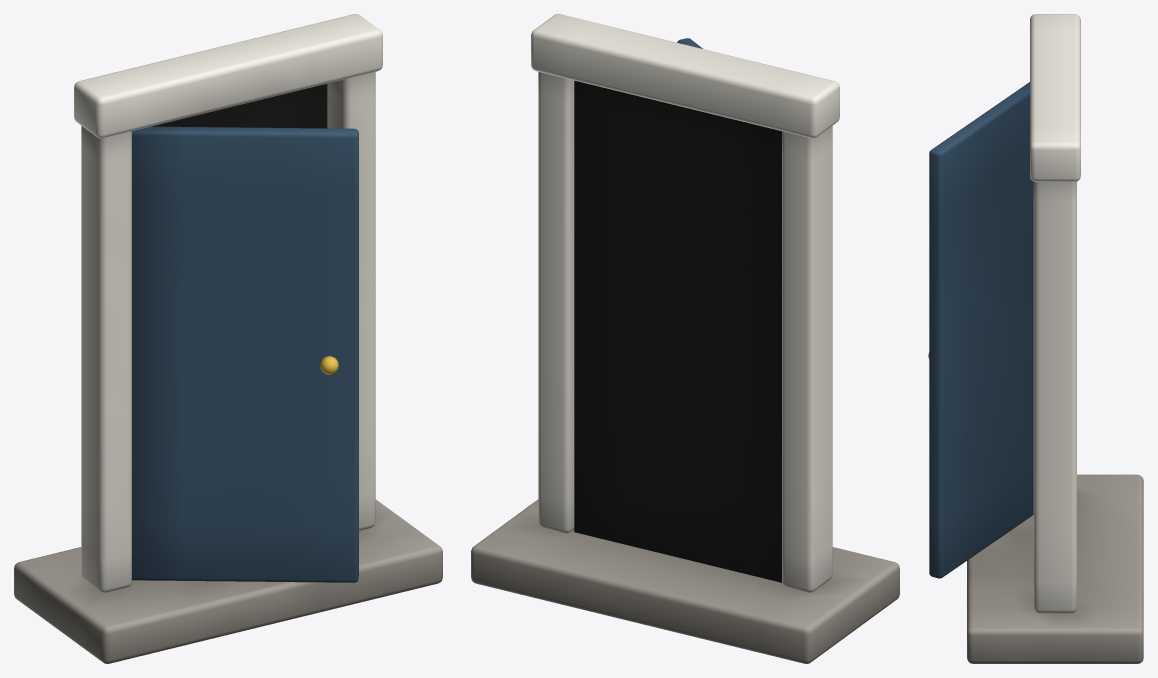
File: doorway.glb
3 views of the same model, side by side, from view 1: azimuth 30°, elevation 25°; view 2: azimuth 150°, elevation 25°; view 3: azimuth 270°, elevation 25° (orthographic). The views are drawn at different scales.
Parts seen in each view (by area): view 1: Panel, step, post, lintel, post.001, dark; view 2: dark, step, post, lintel, post.001; view 3: Panel, step, post.001, lintel.
Part boxes in pixels (x1,y1,x2,y2): Panel: (132, 126, 358, 582); step: (14, 499, 442, 663); post: (81, 126, 131, 592); lintel: (74, 14, 382, 138); post.001: (327, 72, 375, 530); dark: (151, 83, 327, 128); dark: (574, 80, 782, 582); step: (471, 499, 899, 663); post: (782, 126, 832, 592); lintel: (531, 14, 839, 138); post.001: (538, 72, 574, 533); Panel: (929, 82, 1033, 578); step: (967, 474, 1143, 663); post.001: (1033, 181, 1076, 613); lintel: (1030, 14, 1080, 181).
Bounding box in the file's own units: 1.9 × 2.86 × 1.1.
